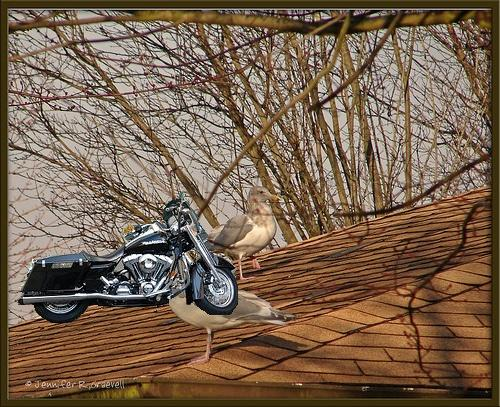tampered: (18, 193, 238, 323)
